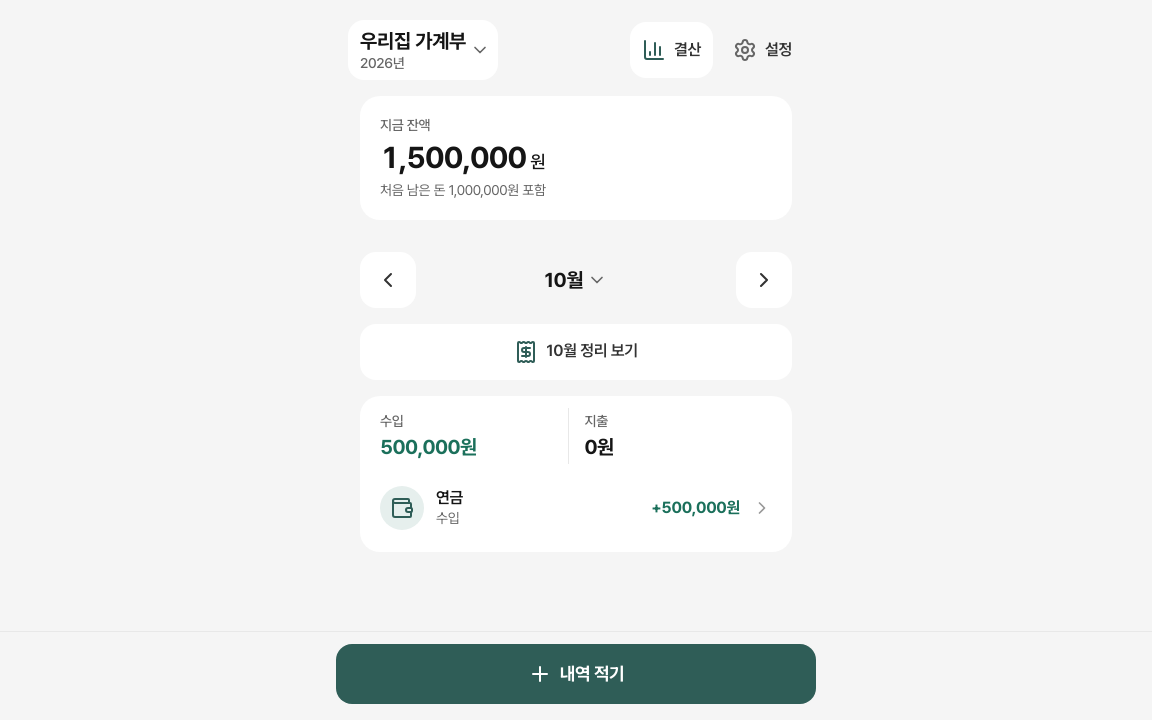
Test: SPEC-002 오래 보관 요청 (첫 장부를 만든 직후) › 장부가 이미 있을 때 새 장부를 더 만들면 다시 요청하지 않는다 (앱 시작 때 이미 요청)
The image size is (1152, 720).
Click the button with test id "book-button".
click(423, 50)  # box [348,20,498,80]
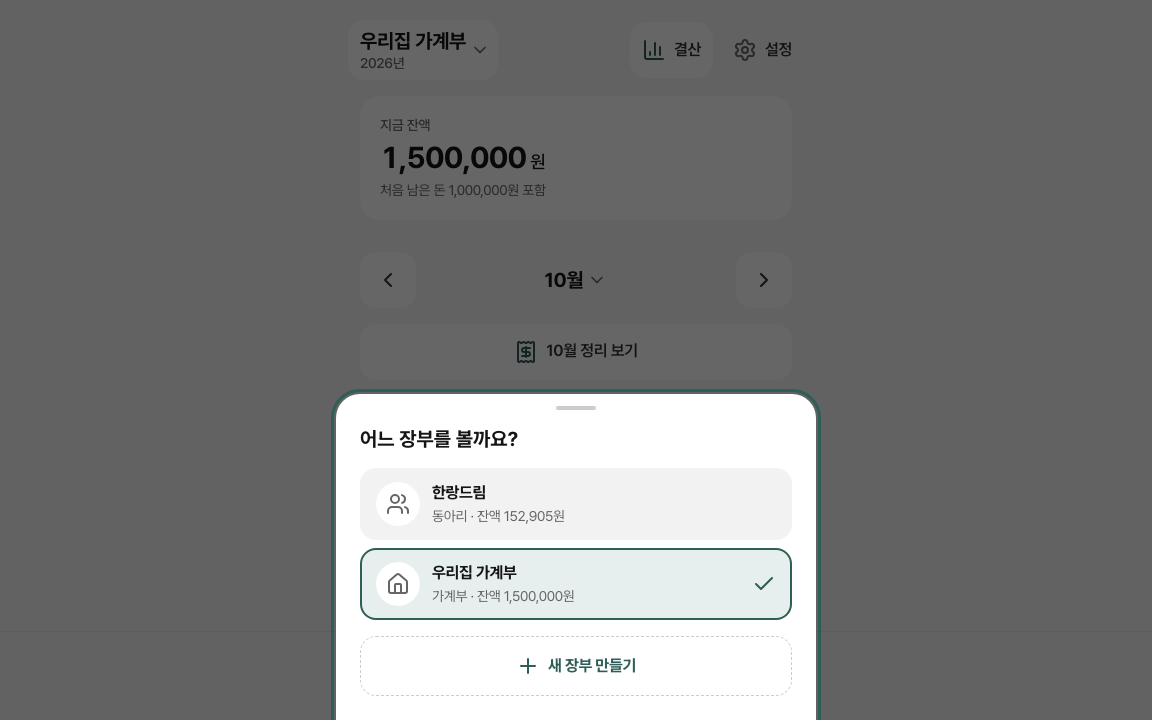
Click the button "새 장부 만들기".
click(576, 666)  # box [360,636,792,696]
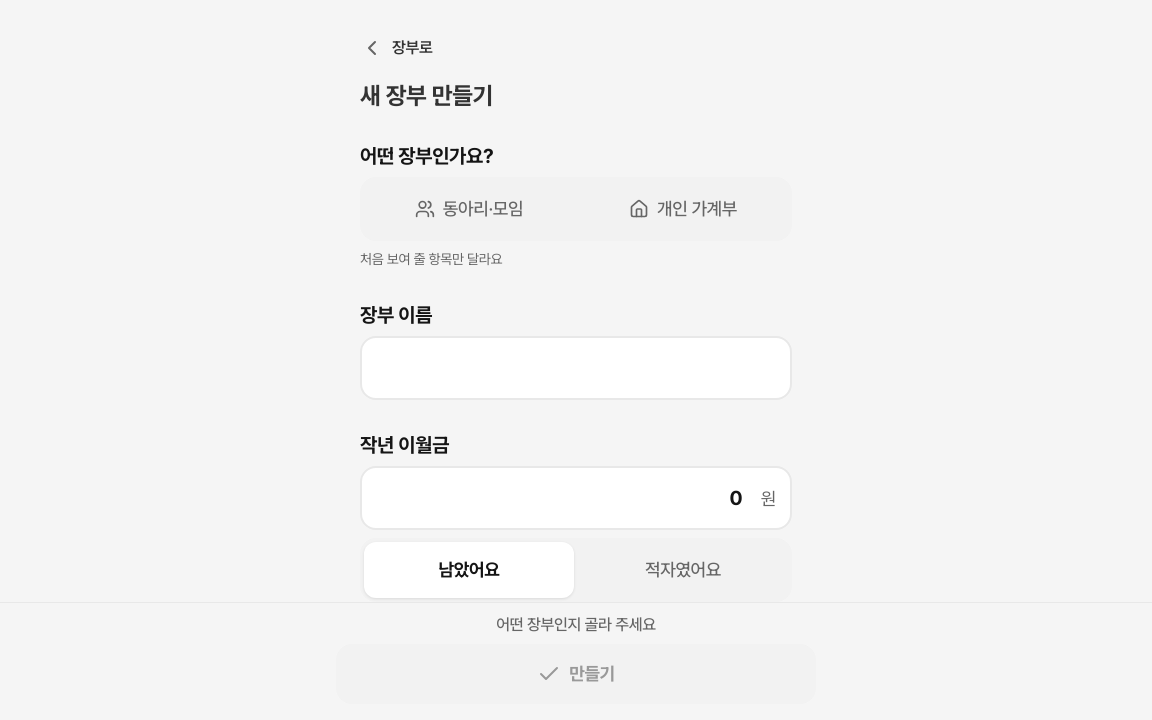
Click the button "동아리·모임".
click(469, 209)  # box [364,181,574,237]
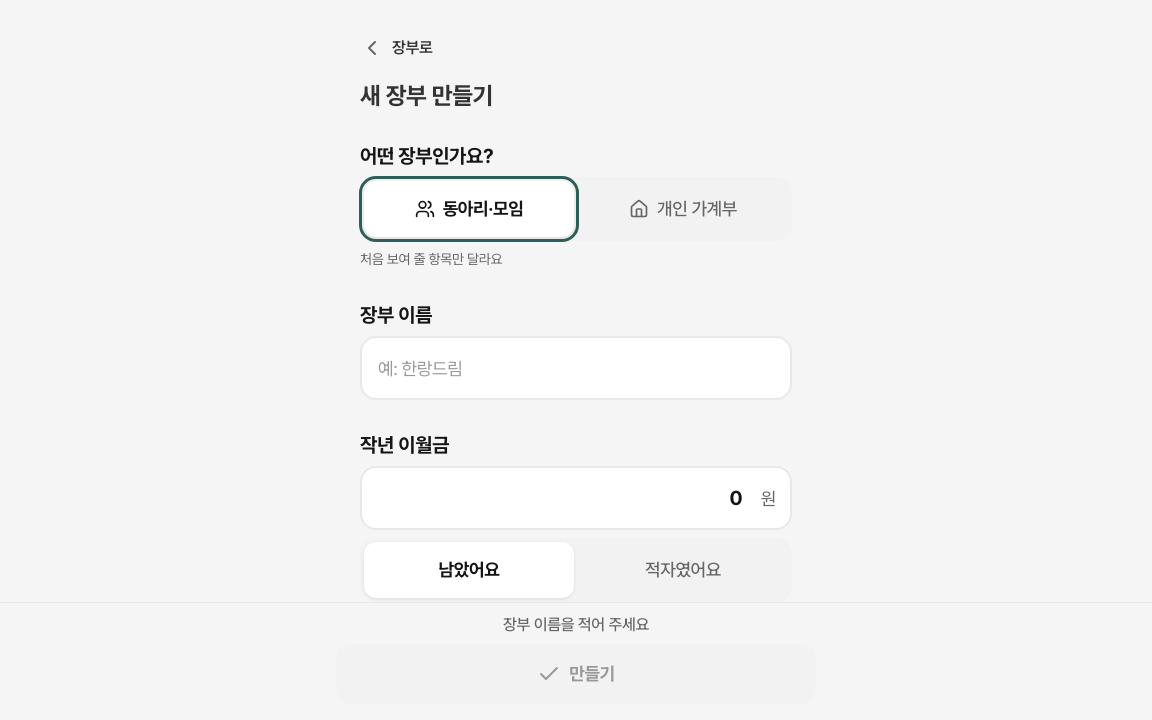
Type "꽃동산" into the field labelled "장부 이름".
click(576, 368); type("꽃동산")  # box [360,336,792,400]
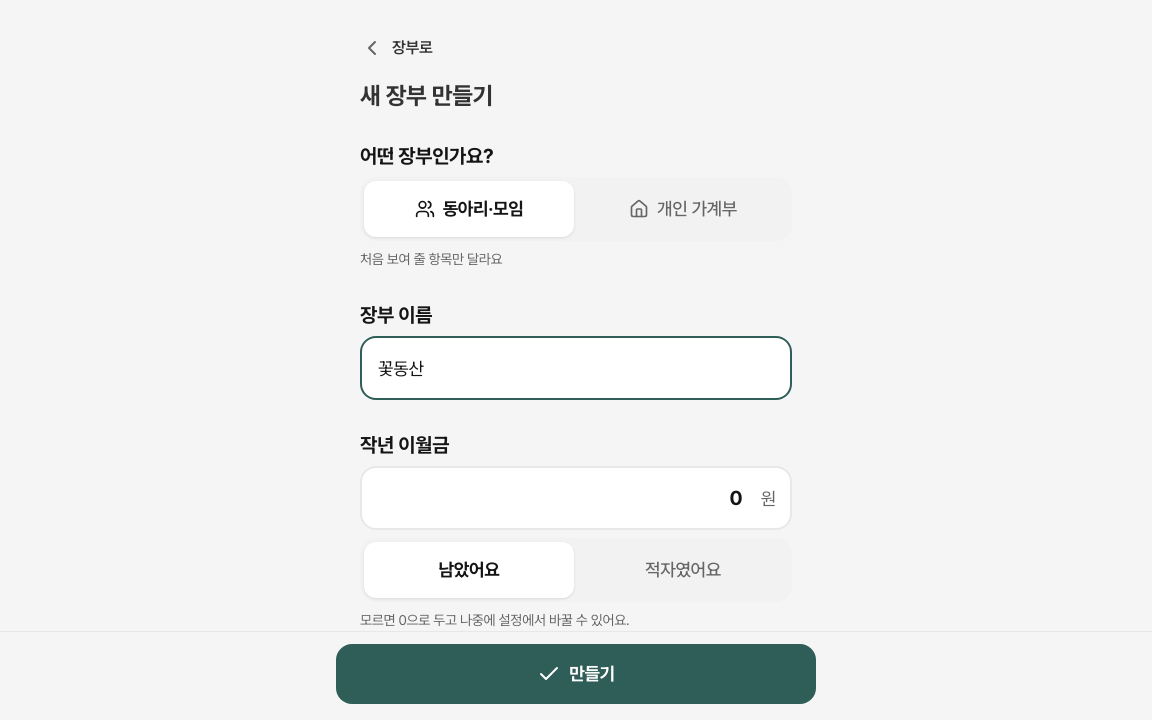
Click the button "만들기".
click(576, 674)  # box [336,644,816,704]
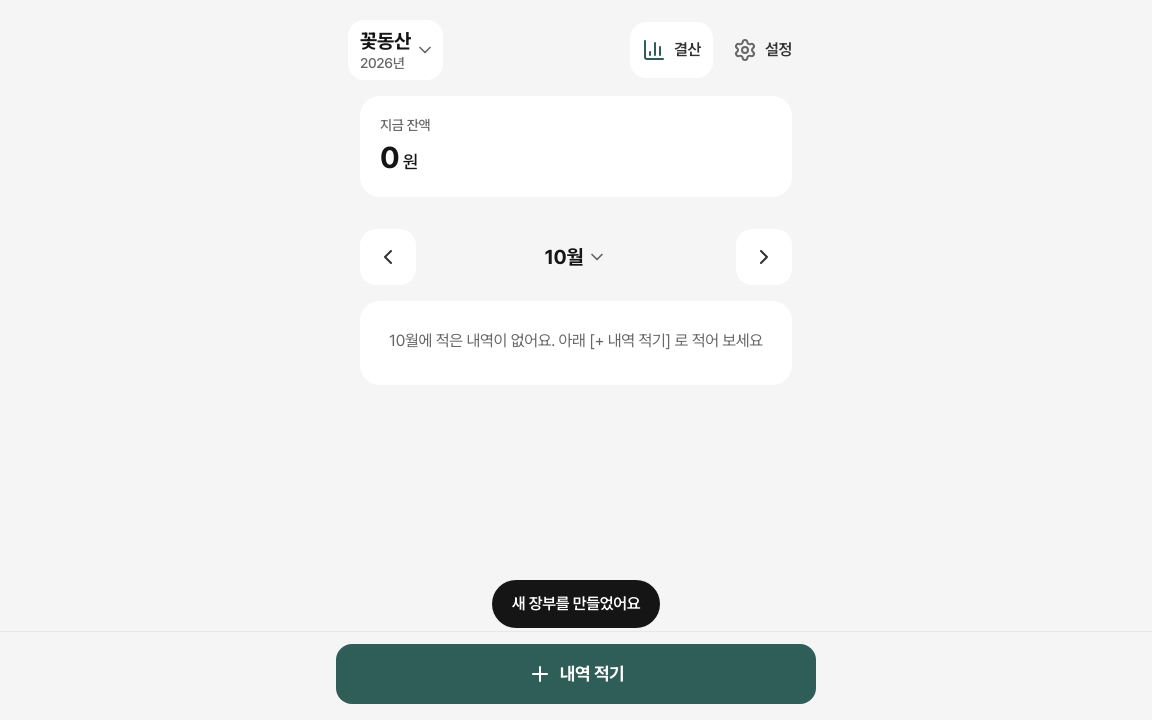
Result: the element with test id "ledger-screen" is shown at [360,20,792,474]
